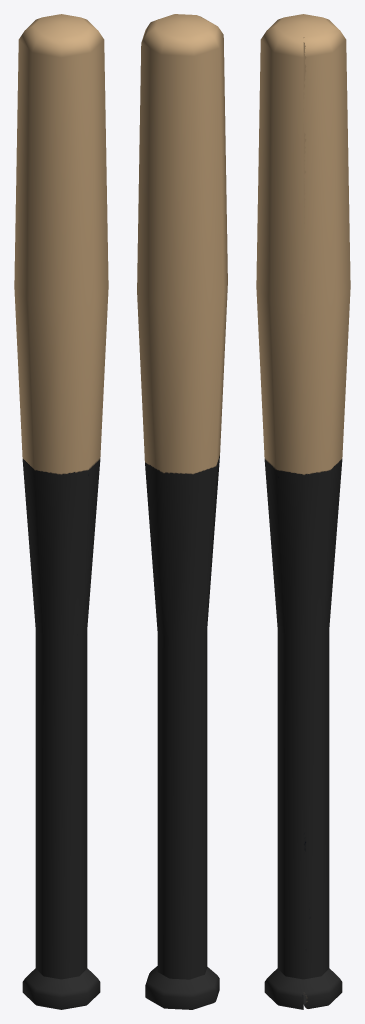
File: baseball_bat.fbx
3 renders of one model, left to right at view 1: azimuth 90°, elevation 25°; view 2: azimuth 150°, elevation 25°; view 3: azimuth 270°, elevation 25°, orthographic.
Parts seen in each view (by area): view 1: pCube1; view 2: pCube1; view 3: pCube1.
Part boxes in pixels (x1=…): pCube1: x1=14, y1=14, x2=108, y2=1009; pCube1: x1=137, y1=14, x2=227, y2=1009; pCube1: x1=256, y1=14, x2=350, y2=1009.
Bounding box in the file's own units: 1.33 × 15.18 × 1.33.
1 material, 1 textured.
